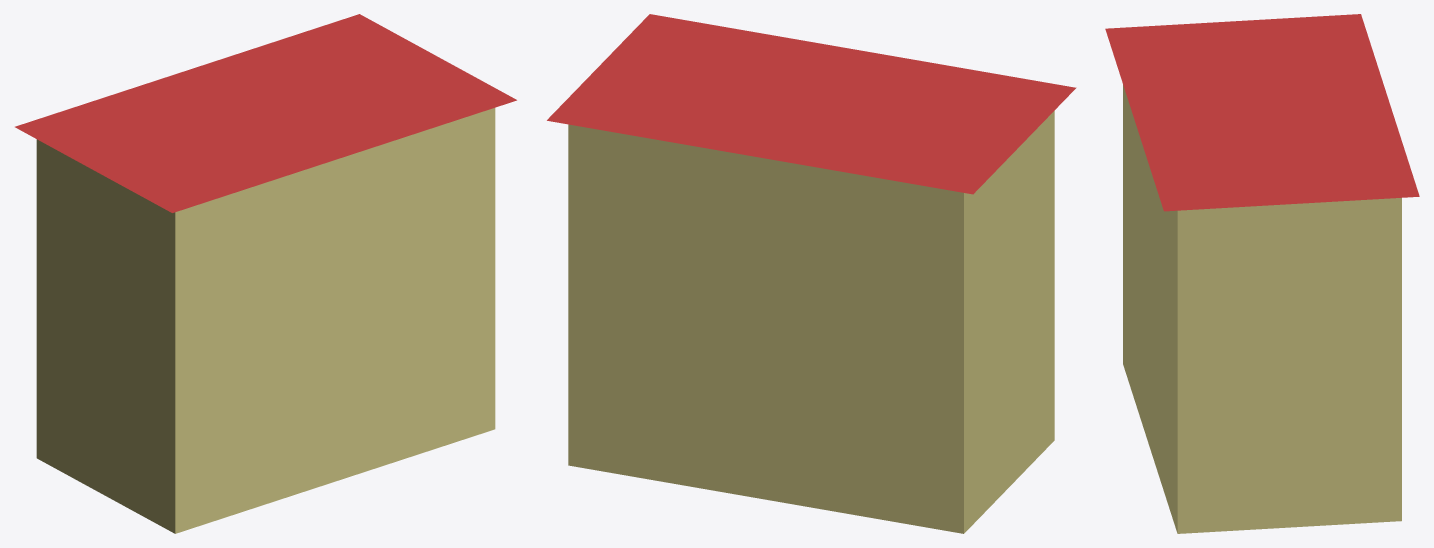
3 views of the same model, side by side, from view 1: azimuth 30°, elevation 25°; view 2: azimuth 150°, elevation 25°; view 3: azimuth 270°, elevation 25° (orthographic). The views are drawn at different scales.
Size of the model in its own units: 7.33 by 4.94 by 5.72.
